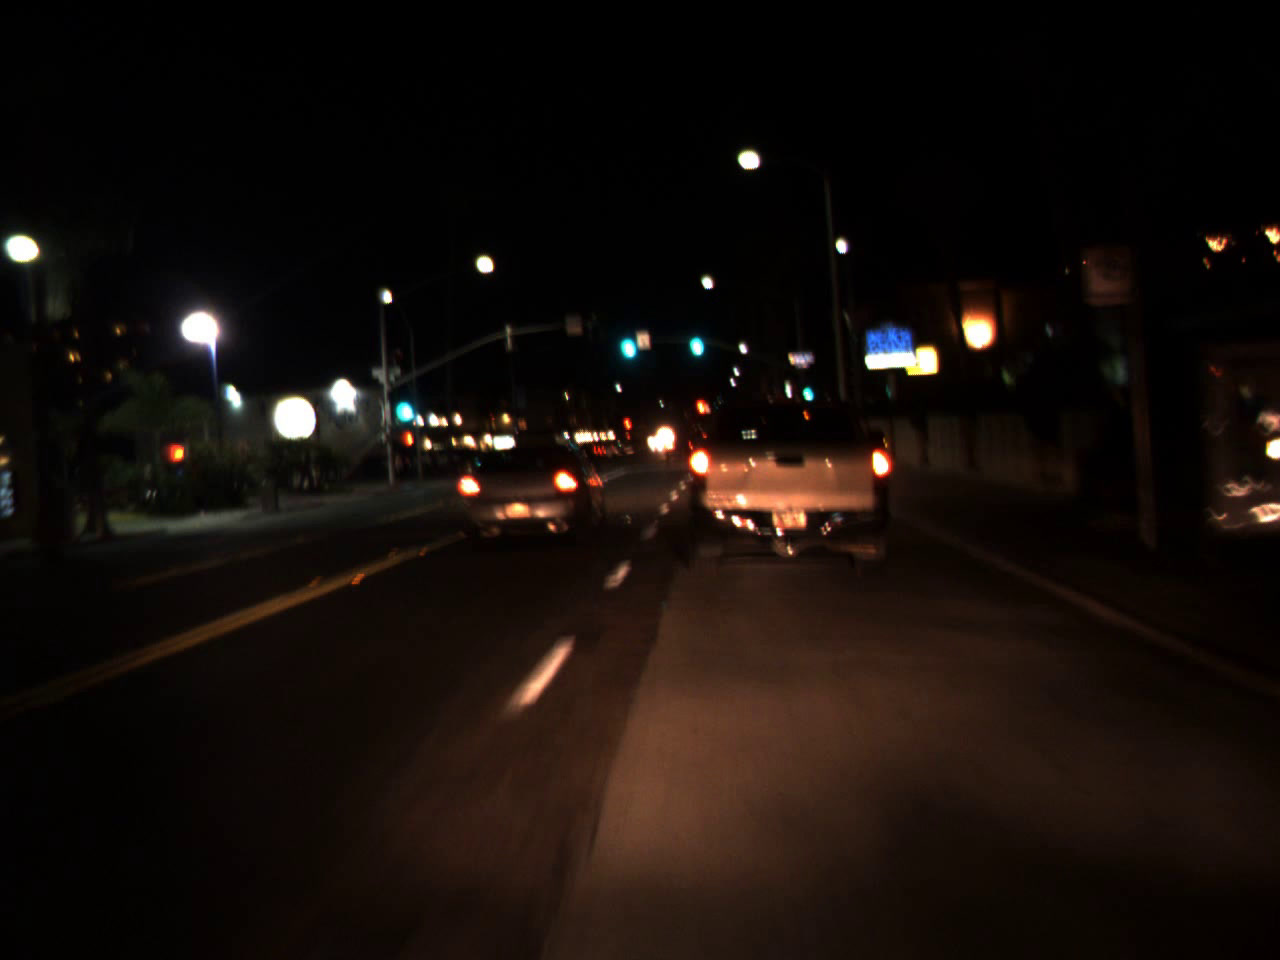go: (390, 376, 415, 430), (615, 314, 640, 365), (683, 312, 706, 363), (799, 370, 815, 406)
